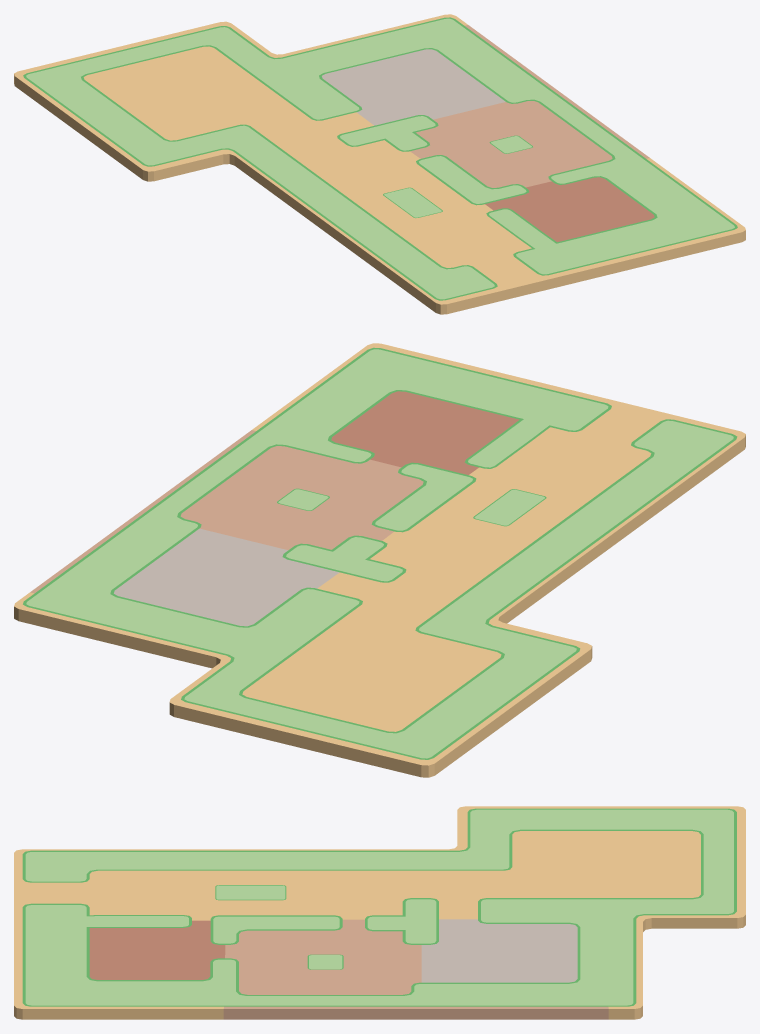
File: [OBJ]Terreno.fbx
3 views of the same model, one above another, from view 1: azimuth 30°, elevation 25°; view 2: azimuth 150°, elevation 25°; view 3: azimuth 270°, elevation 25° (orthographic). The views are drawn at different scales.
Parts seen in each view (by area): view 1: [OBJ]Chao, [OBJ]caminhos; view 2: [OBJ]Chao, [OBJ]caminhos; view 3: [OBJ]Chao, [OBJ]caminhos.
Part boxes in pixels (<box>): [OBJ]Chao: <box>14,14,745,314</box>; [OBJ]caminhos: <box>23,17,737,300</box>; [OBJ]Chao: <box>14,343,745,777</box>; [OBJ]caminhos: <box>23,347,737,759</box>; [OBJ]Chao: <box>14,806,745,1019</box>; [OBJ]caminhos: <box>22,808,736,1006</box>.
Size of the model in its own units: 4026 by 103 by 6140.
